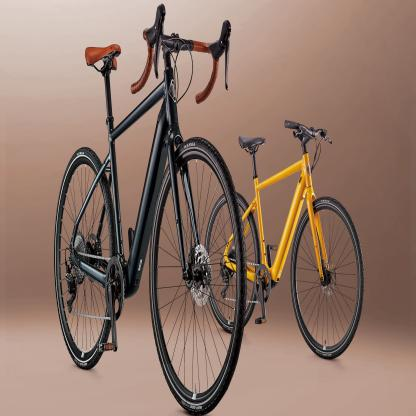Bike: (54, 9, 245, 416), (204, 113, 362, 365)
